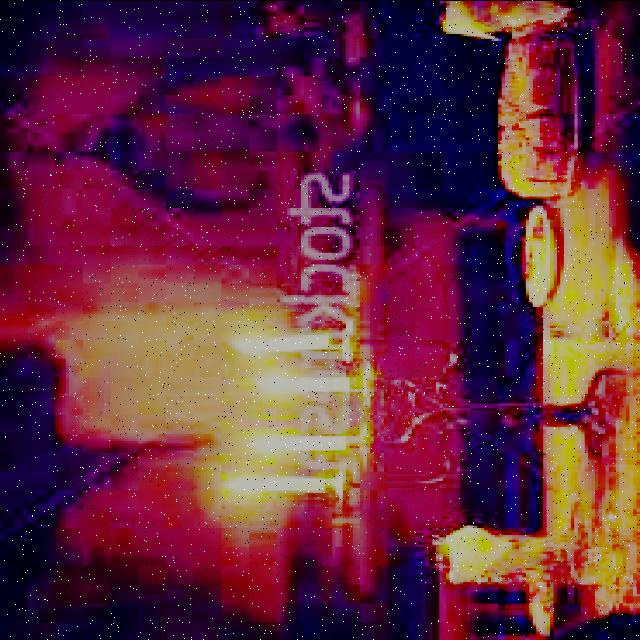api: (215, 333, 271, 359), (215, 472, 271, 496), (254, 371, 299, 392), (243, 432, 288, 451)
